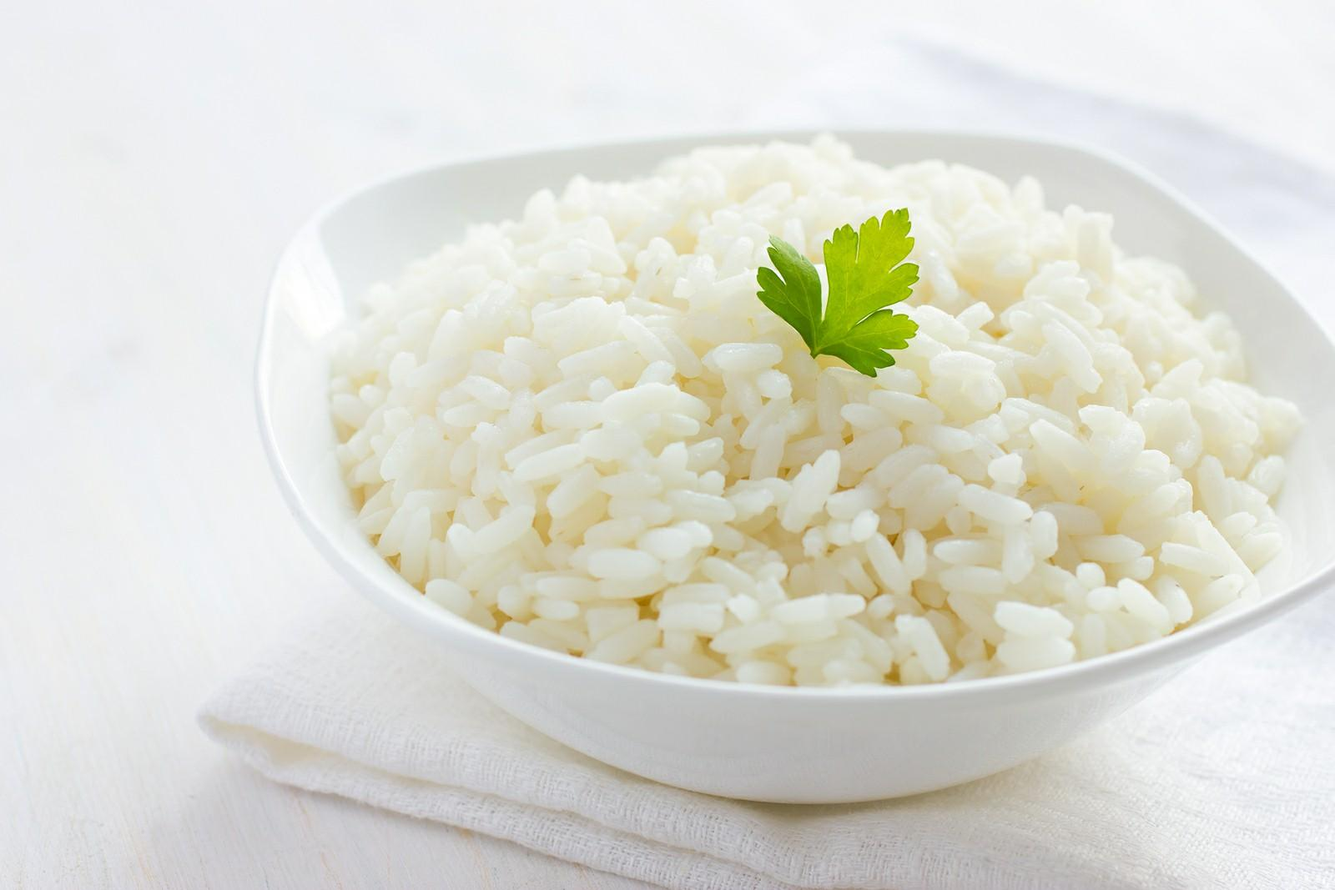WhiteRice: (335, 131, 1308, 688)
